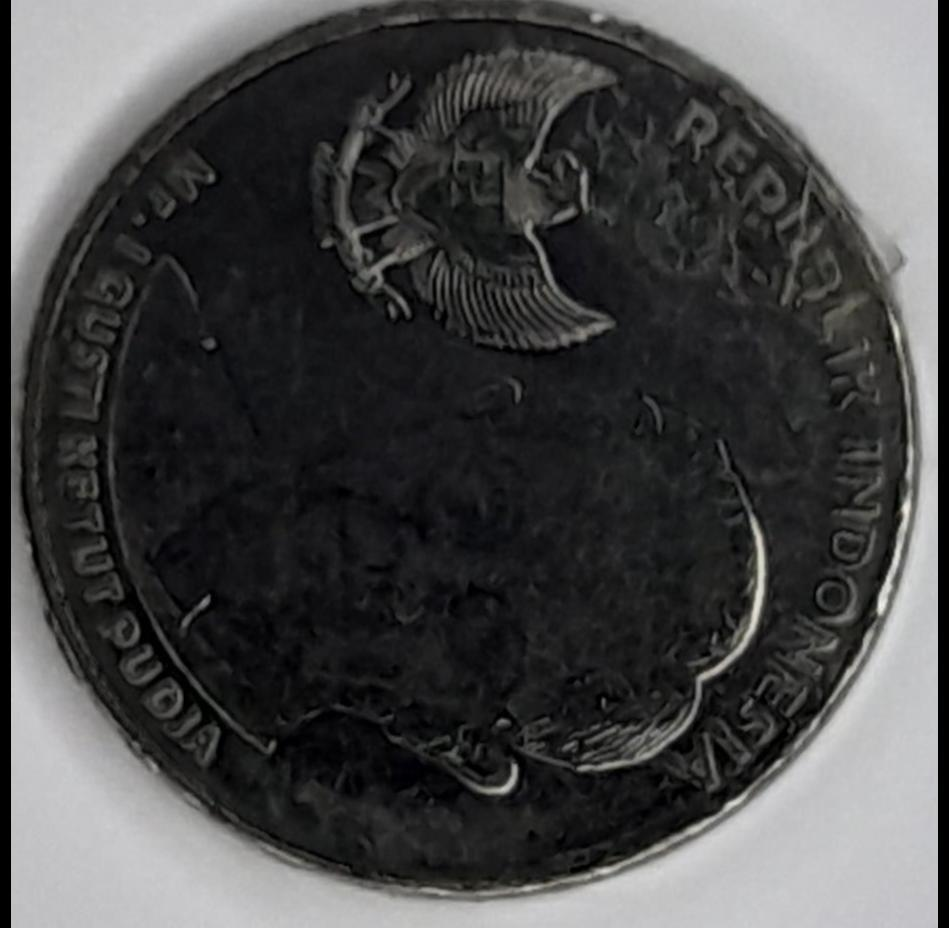coin_1000_e2016: (16, 18, 936, 928)
